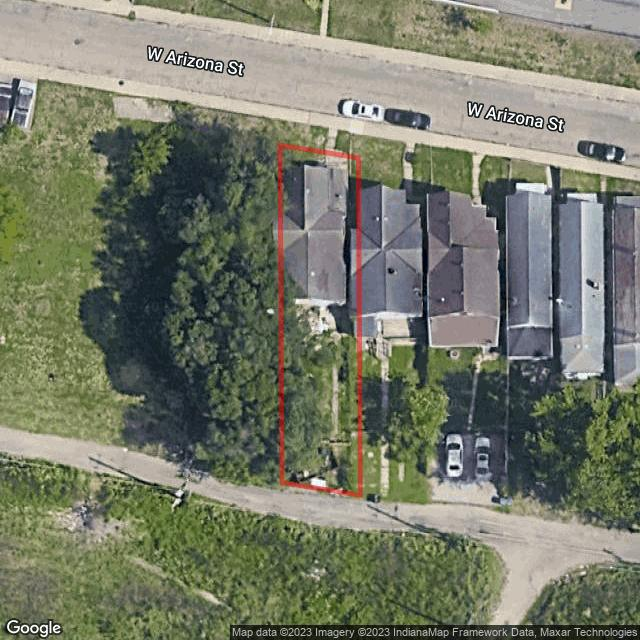Driveway: (330, 335, 338, 486), (325, 155, 348, 172)
Extra Driveway: (326, 128, 338, 151)
Extra Lawn: (279, 120, 329, 150), (335, 131, 361, 156)
House: (284, 163, 348, 304)
Other: (298, 305, 354, 334)
